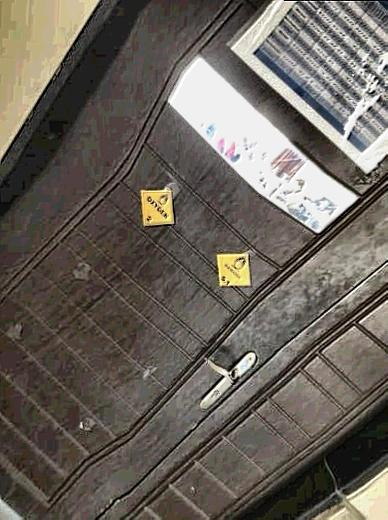oxidizer: (140, 192, 178, 234), (217, 253, 252, 288)
